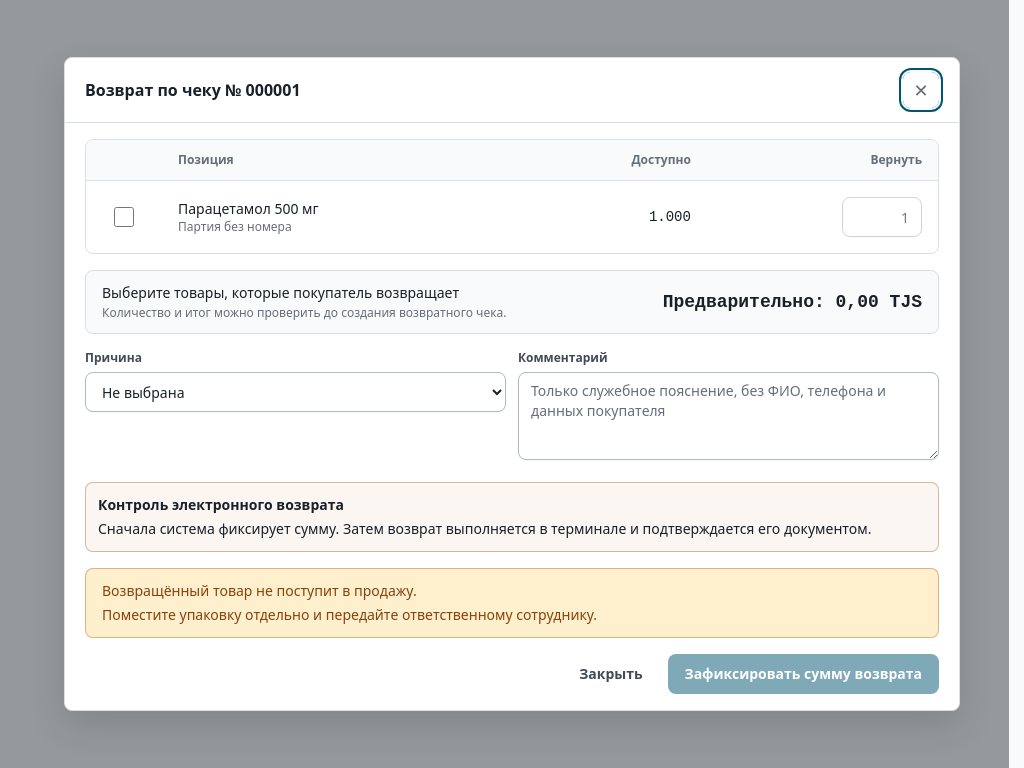
Test case: RefundModal › starts with no selected items and shows the calculated refund total
The width and height of the screenshot is (1024, 768).
Expected: the text "Предварительно: 0,00 TJS" is shown, [663,288,922,316]
Expected: the button "Зафиксировать сумму возврата" is disabled, [668,654,939,694]
Click the checkbox named "Вернуть Парацетамол 500 мг". click: click(124, 217)
box: [114,207,134,227]
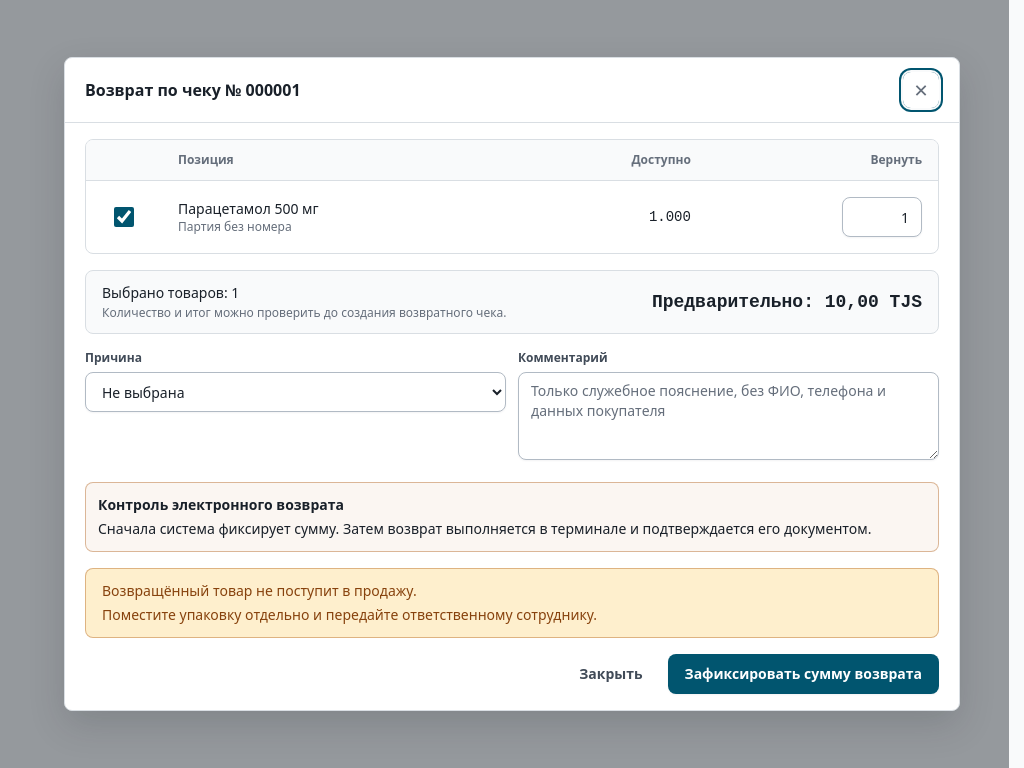
Expected: the field named "Количество для возврата: Парацетамол 500 мг" is enabled, [842,197,922,237]
Expected: the text "Предварительно: 10,00 TJS" is shown, [652,288,922,316]
